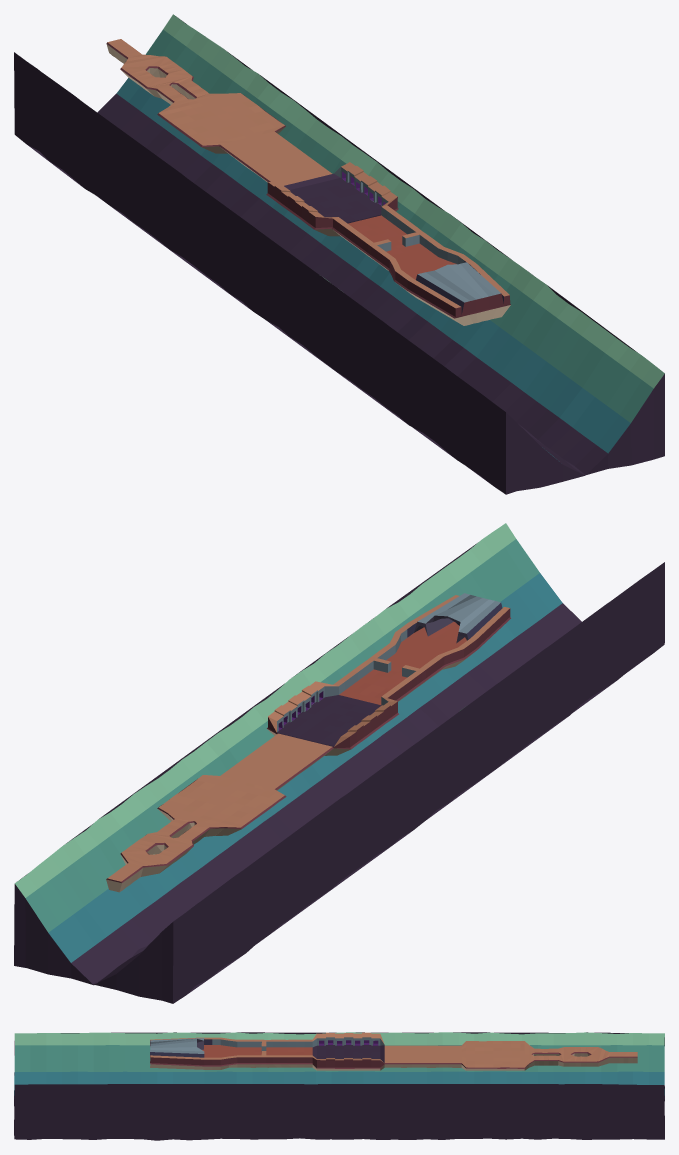
File: contra_level_6_map.fbx
The picture shows the model from 3 angles, top to bottom: view 1: azimuth 30°, elevation 25°; view 2: azimuth 150°, elevation 25°; view 3: azimuth 270°, elevation 25°; orthographic projection. The views are drawn at different scales.
Visible parts, largest first — view 1: Lv6Sink, Lv6Land3, Lv6Land2, Lv6Land1; view 2: Lv6Sink, Lv6Land3, Lv6Land2, Lv6Land1; view 3: Lv6Sink, Lv6Land3, Lv6Land2, Lv6Land1.
Part boxes in pixels (x1,y1,x2,y2): Lv6Sink: [14, 14, 664, 494]; Lv6Land3: [266, 162, 510, 325]; Lv6Land2: [157, 93, 332, 185]; Lv6Land1: [106, 39, 223, 107]; Lv6Sink: [14, 523, 664, 1003]; Lv6Land3: [267, 593, 510, 755]; Lv6Land2: [157, 733, 333, 835]; Lv6Land1: [106, 813, 224, 892]; Lv6Sink: [14, 1032, 664, 1140]; Lv6Land3: [150, 1032, 384, 1070]; Lv6Land2: [384, 1041, 529, 1070]; Lv6Land1: [529, 1045, 637, 1067].
Size of the model in its own units: 13634 by 9008 by 72078.
